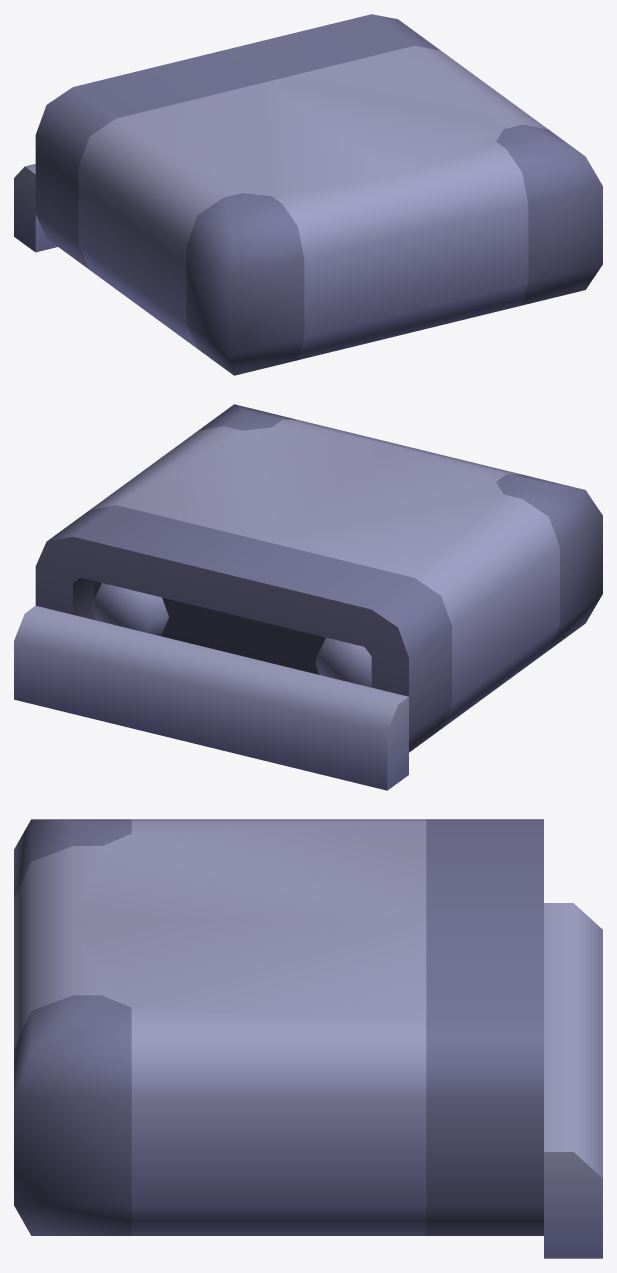
File: conveyor-stripe-sides-junction-t.fbx
3 renders of one model, top to bottom at view 1: azimuth 30°, elevation 25°; view 2: azimuth 150°, elevation 25°; view 3: azimuth 270°, elevation 25°, orthographic. The views are drawn at different scales.
Visible parts, largest first — view 1: conveyor-stripe-sides-junction-t; view 2: conveyor-stripe-sides-junction-t; view 3: conveyor-stripe-sides-junction-t.
Part boxes in pixels (bbox=[...]): conveyor-stripe-sides-junction-t: bbox=[14, 14, 602, 375]; conveyor-stripe-sides-junction-t: bbox=[14, 404, 602, 790]; conveyor-stripe-sides-junction-t: bbox=[14, 819, 602, 1258].
Bounding box in the file's own units: 100 × 40 × 100.
1 material, 1 textured.
